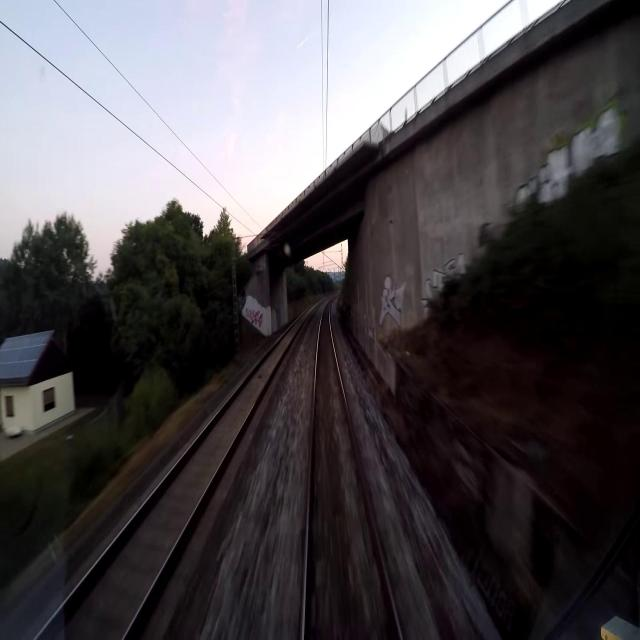rail-track: (39, 310, 310, 639), (306, 302, 399, 639)
